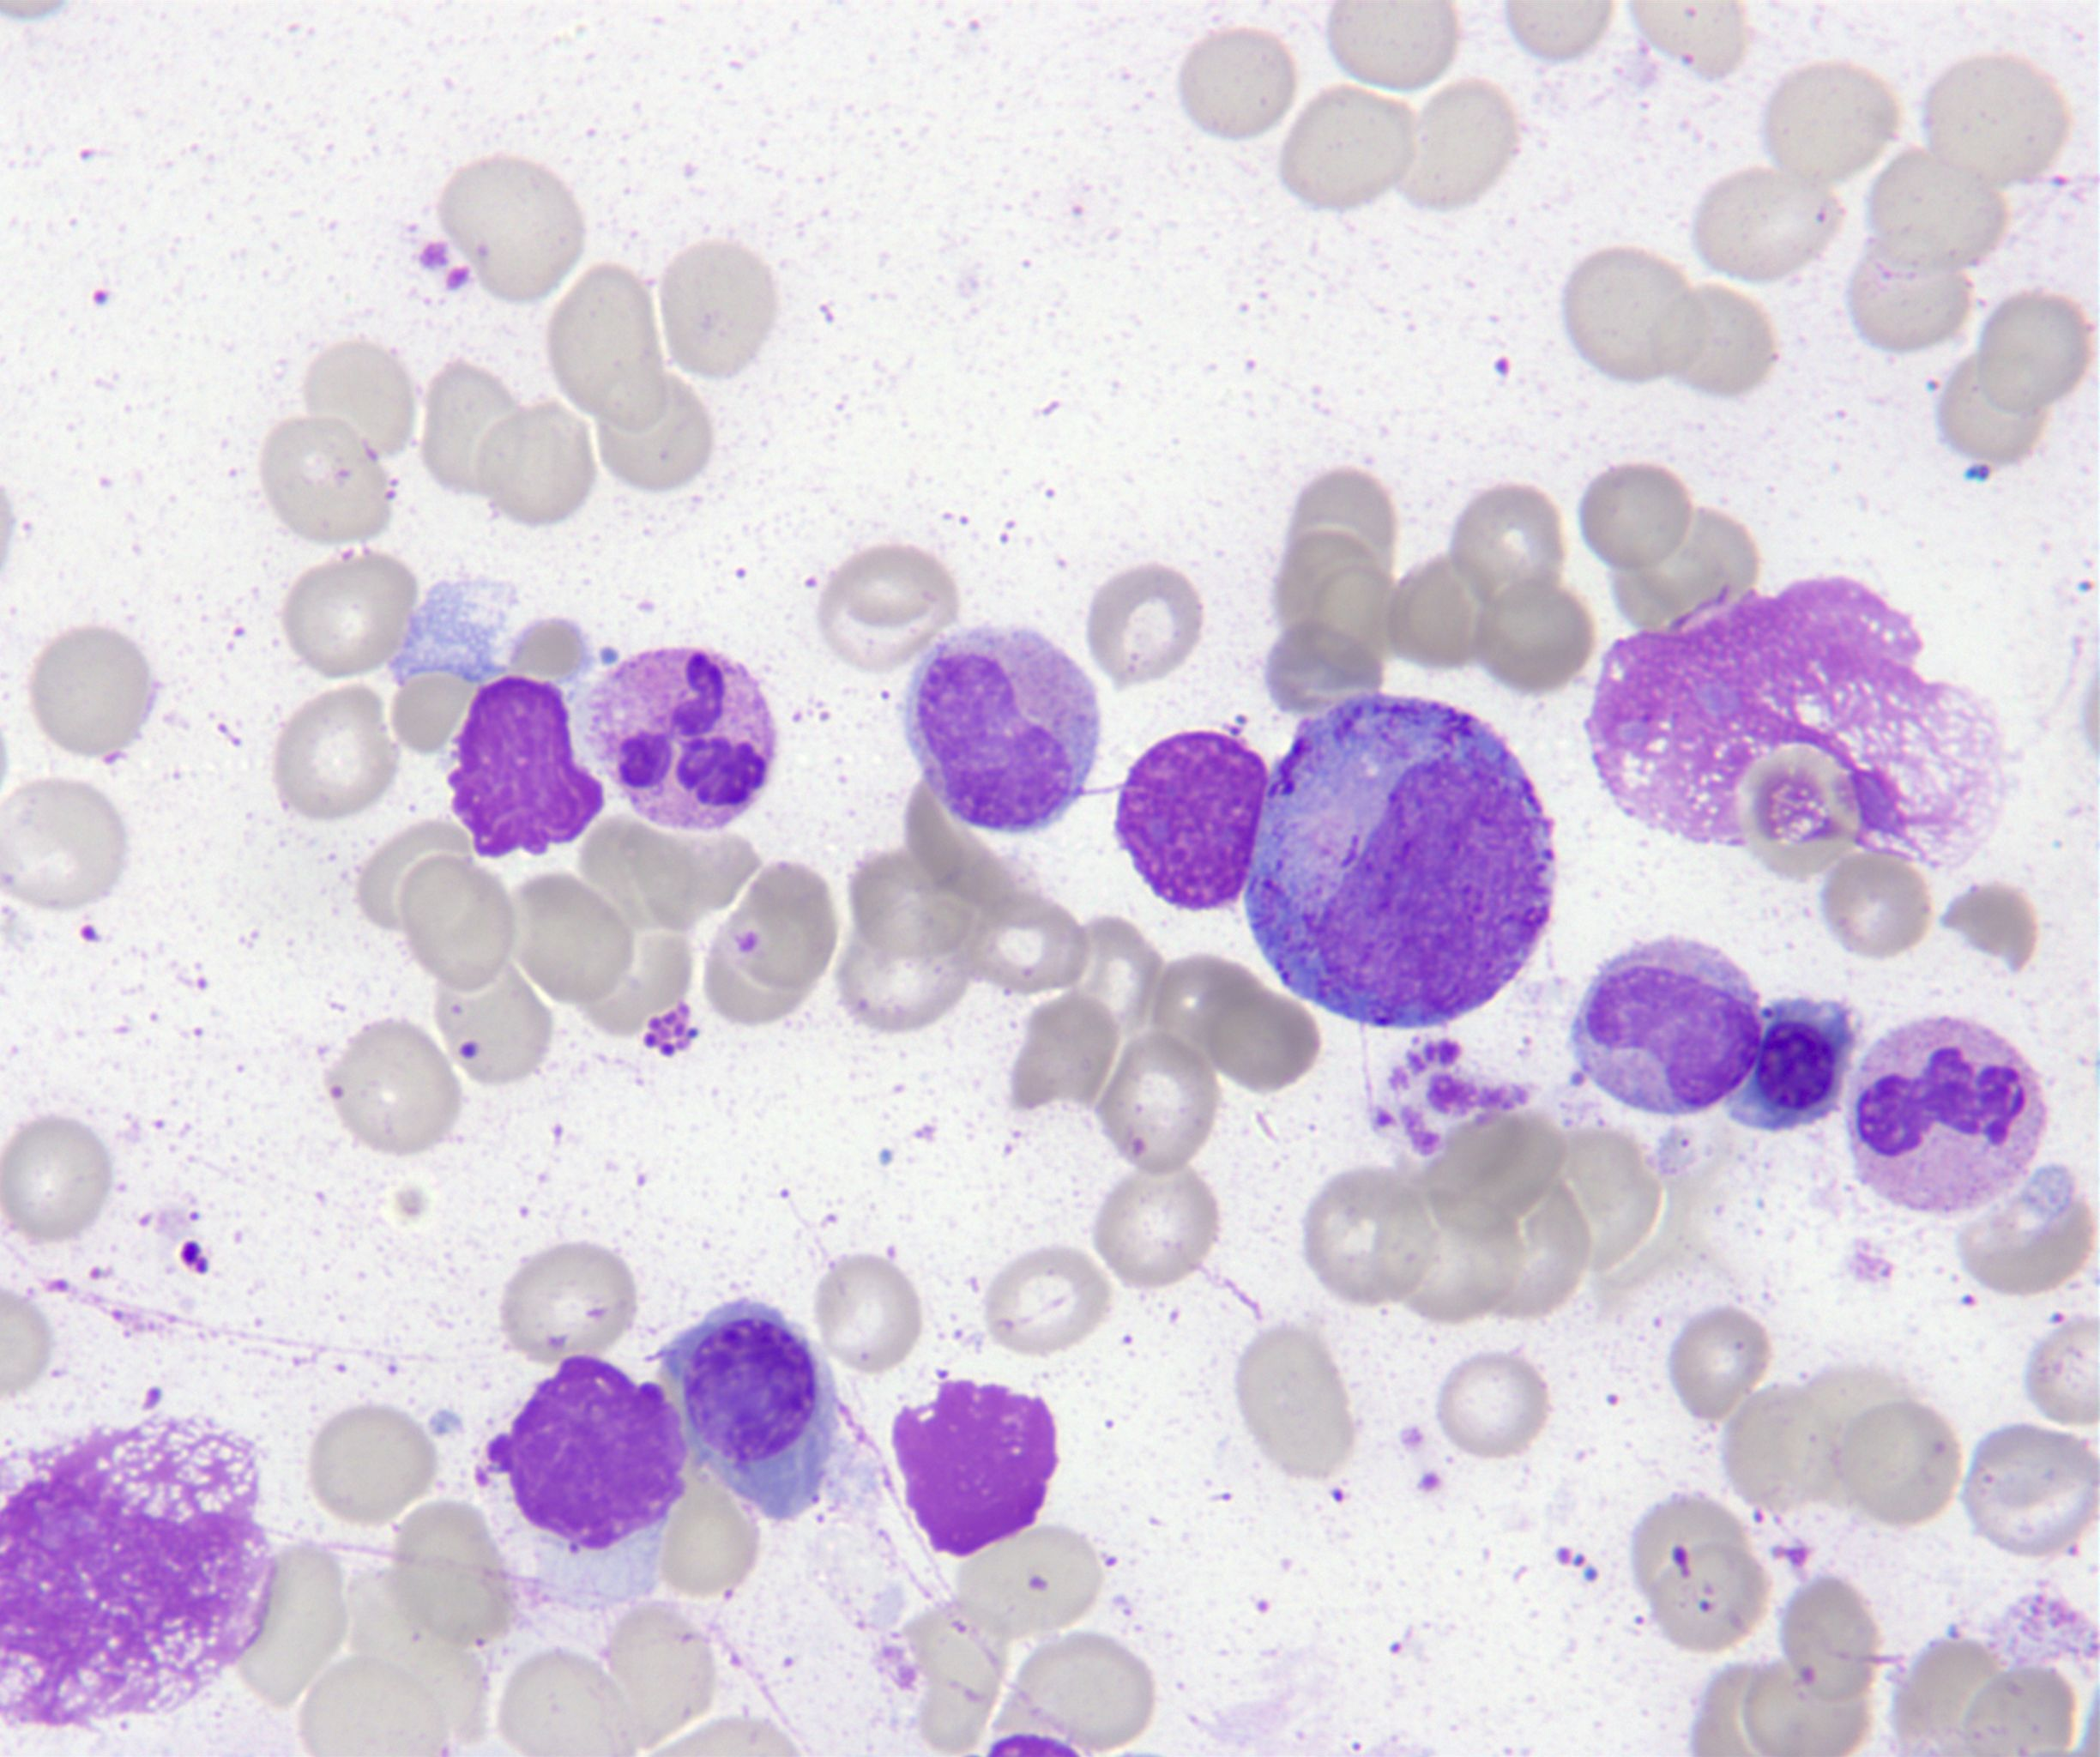24: (659, 1298, 837, 1518), (1730, 1000, 1863, 1131)
3: (1244, 698, 1556, 1028), (903, 626, 1099, 832)
4: (1572, 939, 1762, 1117)
6: (1851, 1015, 2048, 1213), (591, 647, 776, 832)
x: (1585, 576, 2004, 867), (0, 1417, 277, 1726), (478, 1357, 685, 1553), (895, 1382, 1057, 1558), (448, 679, 607, 857), (1115, 733, 1268, 913)
